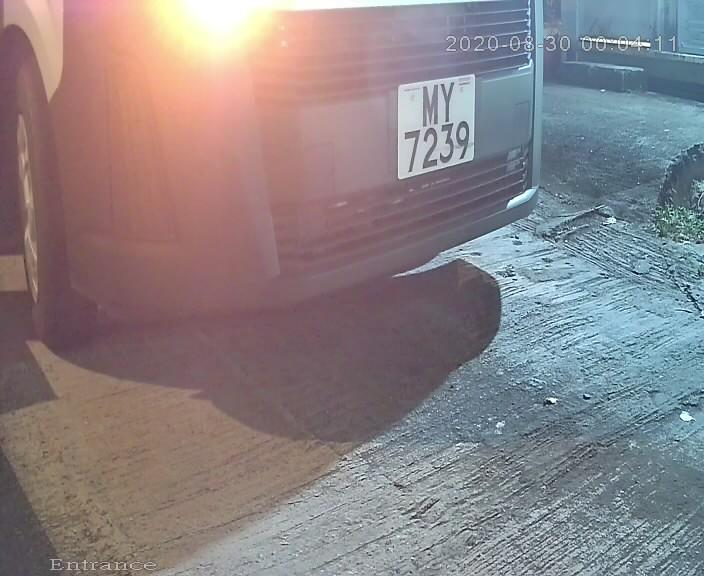License Plate: (384, 57, 481, 193)
